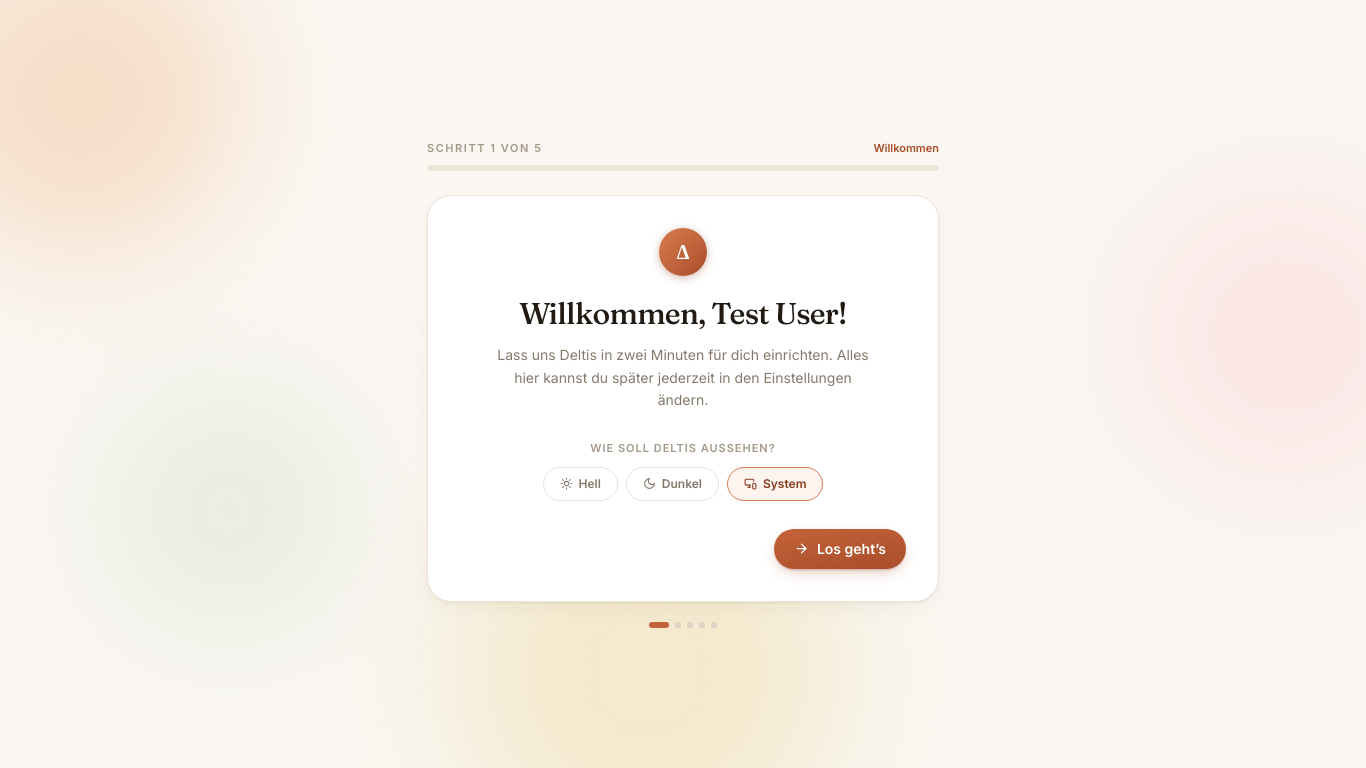
it: Onboarding – Schritte & Speichern › persists the step when continuing from the welcome screen
Click the button "Los geht’s" at point(840, 549), box [774, 529, 906, 569]
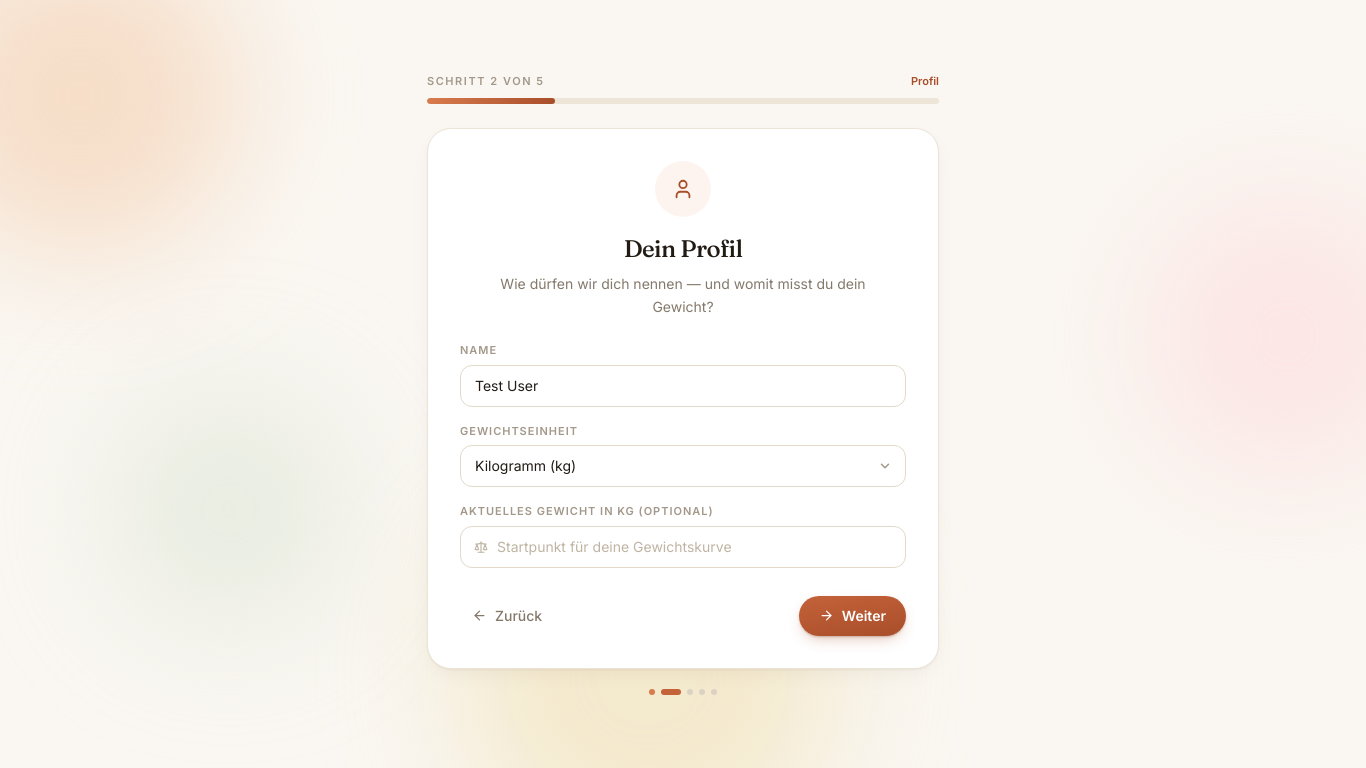
Expected: the heading "Dein Profil" is shown, [624, 234, 742, 263]
